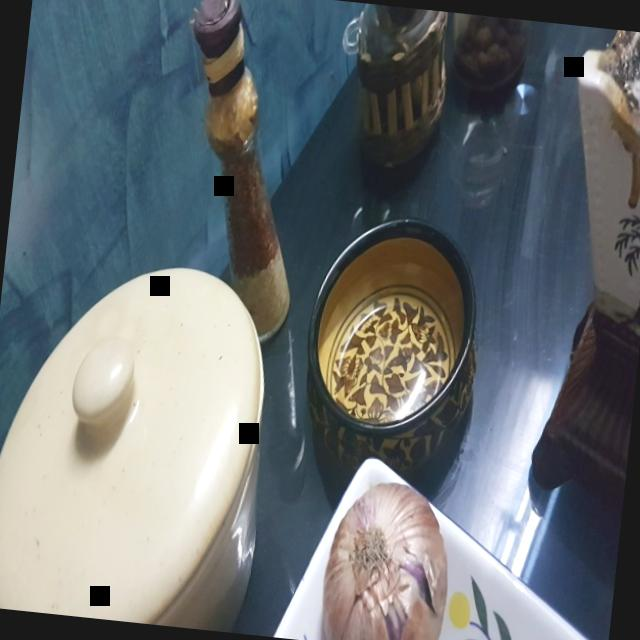onion: (317, 474, 462, 640)
